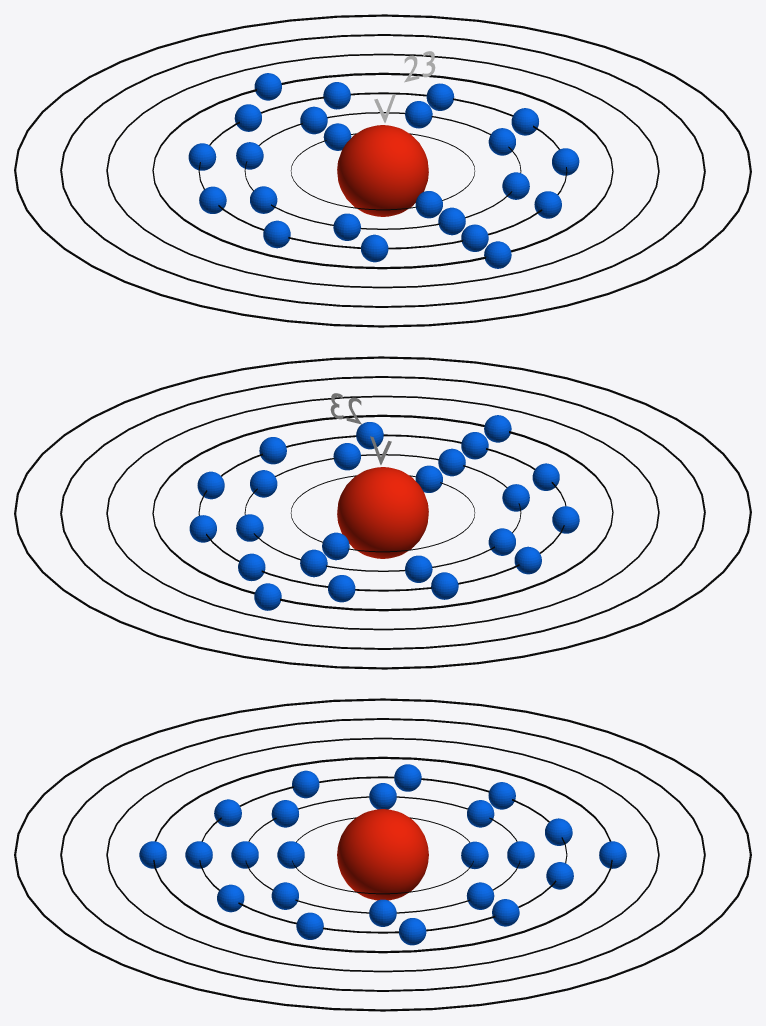
3 renders of one model, top to bottom at view 1: azimuth 30°, elevation 25°; view 2: azimuth 150°, elevation 25°; view 3: azimuth 270°, elevation 25°, orthographic.
Visible parts, largest first — view 1: V3, Proton, V2, n7, n6, n5, n4, n3, V4, V1, n2; view 2: V3, Proton, V2, n7, n6, n5, n4, n3, V4, V1, n2; view 3: V3, Proton, V2, n7, n6, n5, n4, n3, V1, V4, n2, n1.
Part boxes in pixels (x1=…): V3: x1=188, y1=82, x2=579, y2=262; Proton: x1=337, y1=125, x2=428, y2=216; V2: x1=236, y1=101, x2=529, y2=240; n7: x1=14, y1=14, x2=751, y2=327; n6: x1=60, y1=34, x2=705, y2=307; n5: x1=106, y1=53, x2=659, y2=288; n4: x1=152, y1=72, x2=613, y2=269; n3: x1=198, y1=92, x2=567, y2=249; V4: x1=254, y1=73, x2=511, y2=268; V1: x1=323, y1=123, x2=442, y2=218; n2: x1=244, y1=112, x2=521, y2=229; V3: x1=189, y1=422, x2=579, y2=602; Proton: x1=337, y1=467, x2=428, y2=558; V2: x1=236, y1=443, x2=529, y2=582; n7: x1=14, y1=356, x2=751, y2=669; n6: x1=60, y1=376, x2=705, y2=649; n5: x1=106, y1=395, x2=659, y2=630; n4: x1=152, y1=414, x2=613, y2=611; n3: x1=198, y1=434, x2=566, y2=591; V4: x1=254, y1=415, x2=511, y2=610; V1: x1=322, y1=465, x2=442, y2=560; n2: x1=244, y1=454, x2=521, y2=571; V3: x1=185, y1=764, x2=573, y2=945; Proton: x1=337, y1=809, x2=428, y2=900; V2: x1=231, y1=783, x2=534, y2=926; n7: x1=14, y1=698, x2=751, y2=1011; n6: x1=60, y1=718, x2=705, y2=991; n5: x1=106, y1=737, x2=659, y2=972; n4: x1=153, y1=756, x2=612, y2=953; n3: x1=199, y1=776, x2=567, y2=933; V1: x1=277, y1=841, x2=488, y2=869; V4: x1=139, y1=841, x2=626, y2=868; n2: x1=245, y1=796, x2=520, y2=913; n1: x1=292, y1=817, x2=473, y2=894.
Bounding box in the file's own units: 802 × 180 × 802.
